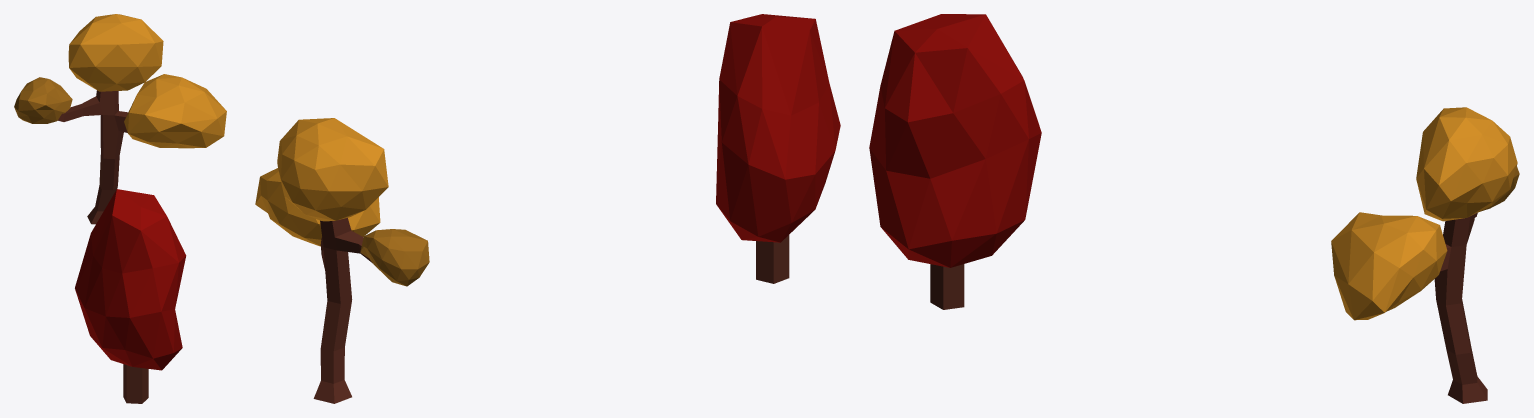
The model's file is new_tree_7.fbx.
3 renders of one model, left to right at view 1: azimuth 30°, elevation 25°; view 2: azimuth 150°, elevation 25°; view 3: azimuth 270°, elevation 25°, orthographic. The views are drawn at different scales.
Parts seen in each view (by area): view 1: pasted__Tree3.000, pasted__Cylinder.003; view 2: pasted__Cylinder.003, pasted__Tree3.000; view 3: pasted__Cylinder.003, pasted__Tree3.000.
Part boxes in pixels (<box>): pasted__Tree3.000: <box>14,14,226,224</box>; pasted__Cylinder.003: <box>75,189,186,403</box>; pasted__Cylinder.003: <box>716,14,840,283</box>; pasted__Tree3.000: <box>255,118,429,403</box>; pasted__Cylinder.003: <box>869,14,1041,309</box>; pasted__Tree3.000: <box>1331,107,1519,403</box>.
Size of the model in its own units: 160 by 113 by 225.
